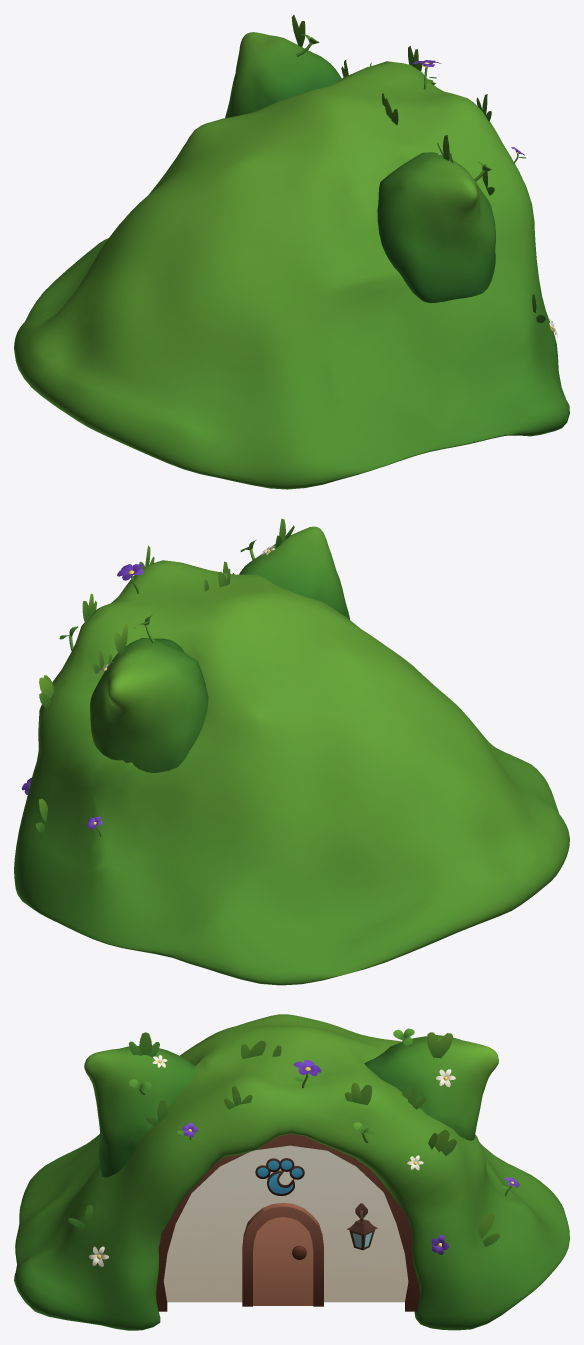
Rendered from Casa_v6.fbx.
3 views of the same model, one above another, from view 1: azimuth 30°, elevation 25°; view 2: azimuth 150°, elevation 25°; view 3: azimuth 270°, elevation 25° (orthographic). The views are drawn at different scales.
Visible parts, largest first — view 1: Casa; view 2: Casa; view 3: Casa.
Boxes of the visible parts, <box> form: Casa: <box>14,15,569,489</box>; Casa: <box>14,518,569,985</box>; Casa: <box>14,1014,569,1330</box>.
Bounding box in the file's own units: 13.29 × 8.16 × 15.66.
